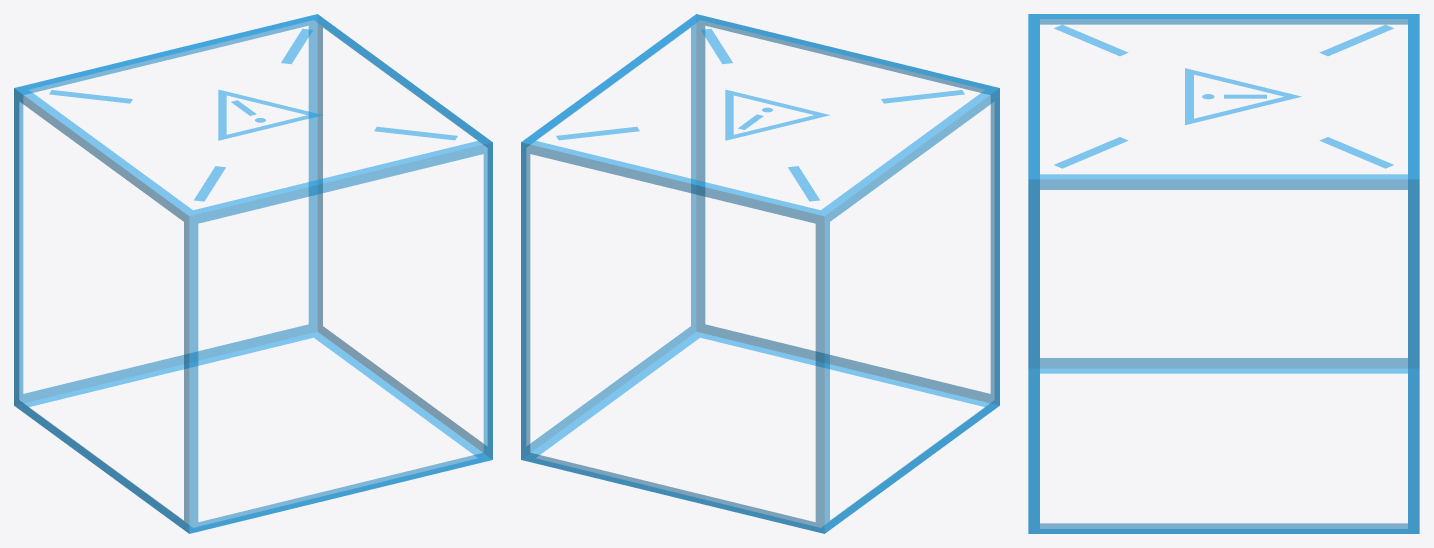
Rendered from exit.fbx.
3 renders of one model, left to right at view 1: azimuth 30°, elevation 25°; view 2: azimuth 150°, elevation 25°; view 3: azimuth 270°, elevation 25°, orthographic. The views are drawn at different scales.
Parts seen in each view (by area): view 1: 出口; view 2: 出口; view 3: 出口.
Boxes of the visible parts, x1,y1,x2,y2 form: 出口: (14, 14, 492, 533); 出口: (521, 14, 999, 533); 出口: (1028, 14, 1419, 533).
Size of the model in its own units: 1 by 1 by 1.
